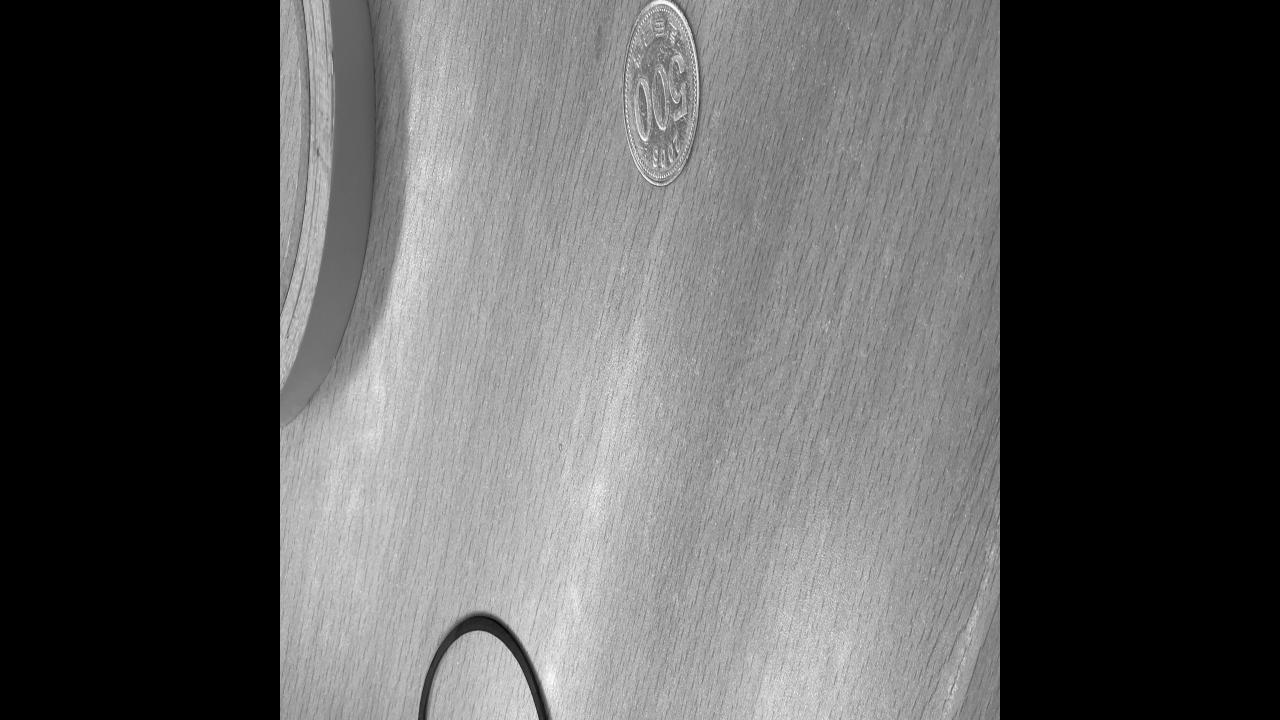coin: (623, 0, 700, 184)
